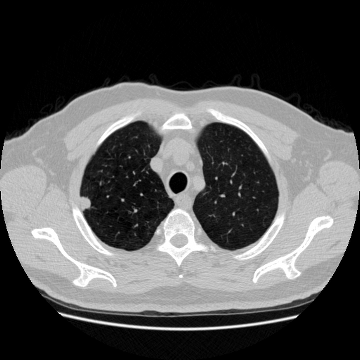nodule: (79, 196, 91, 208)
